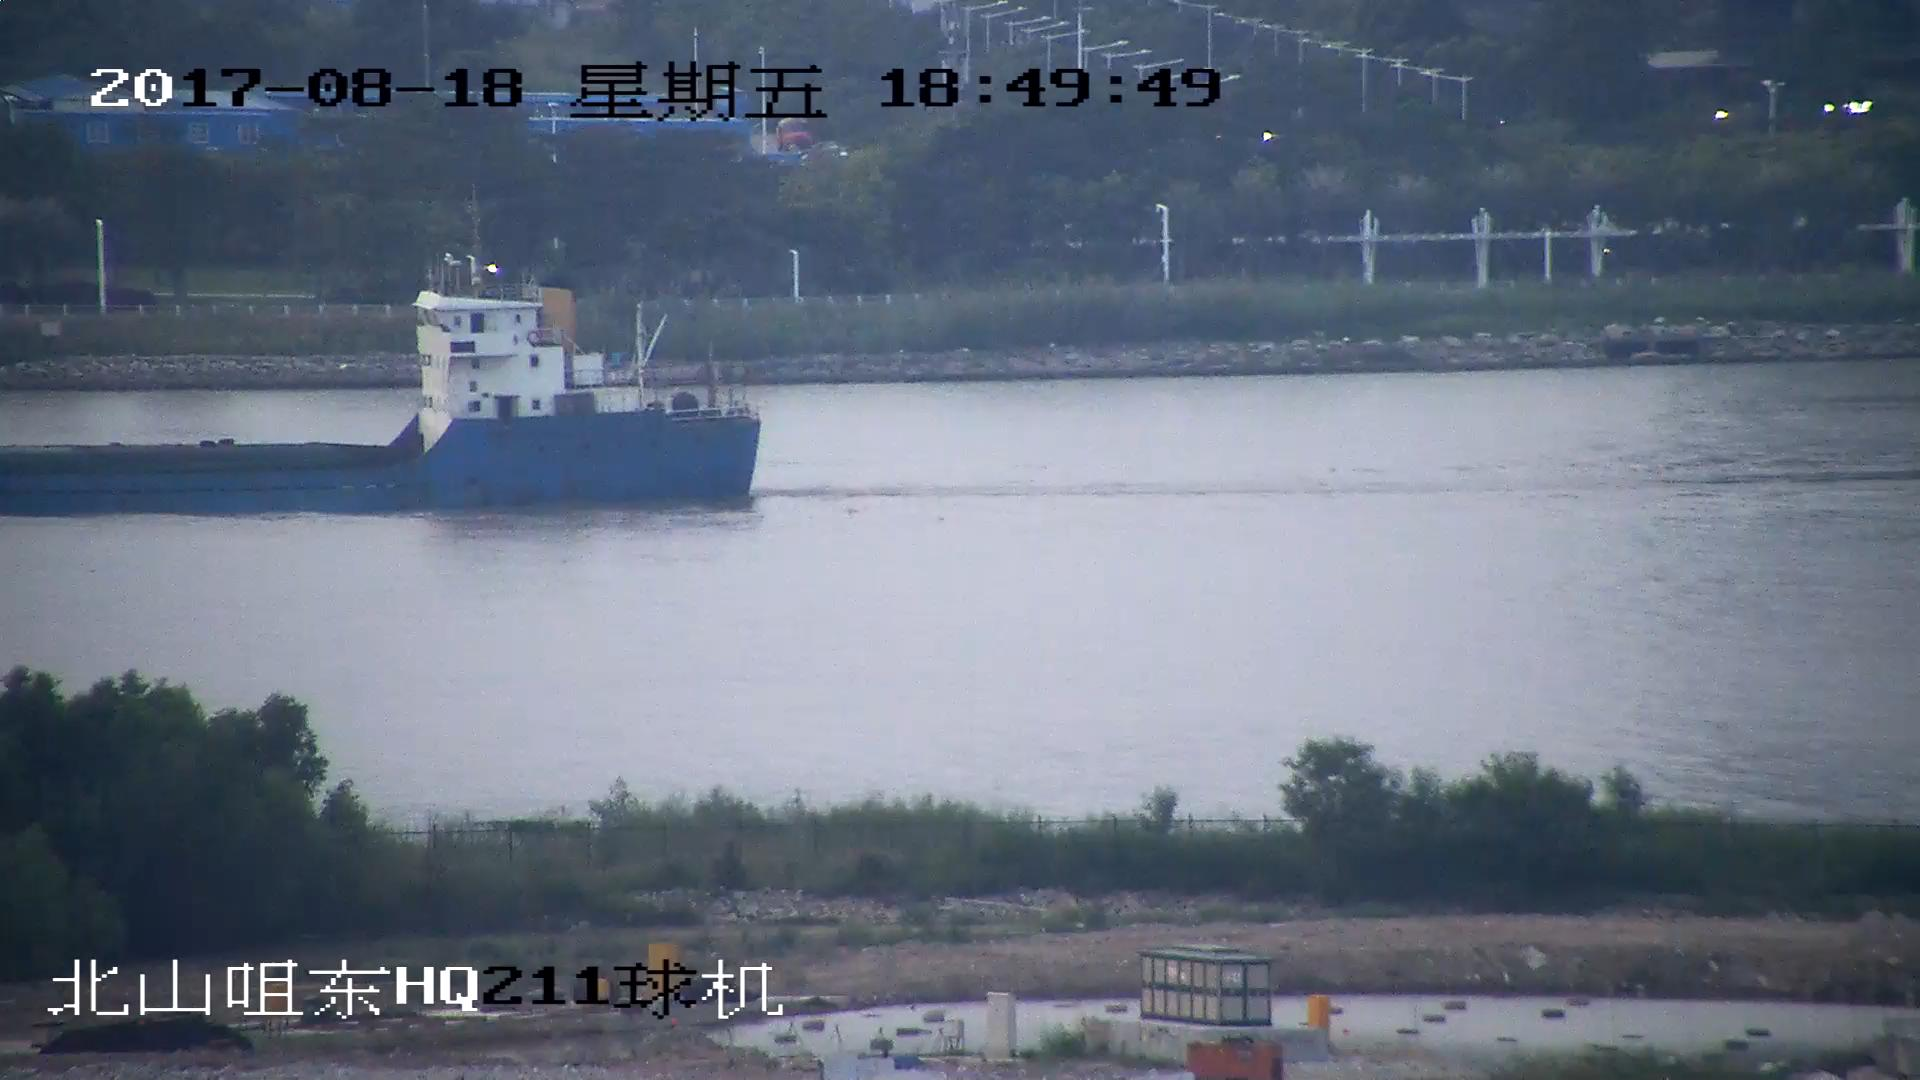general cargo ship: (1, 263, 760, 515)
